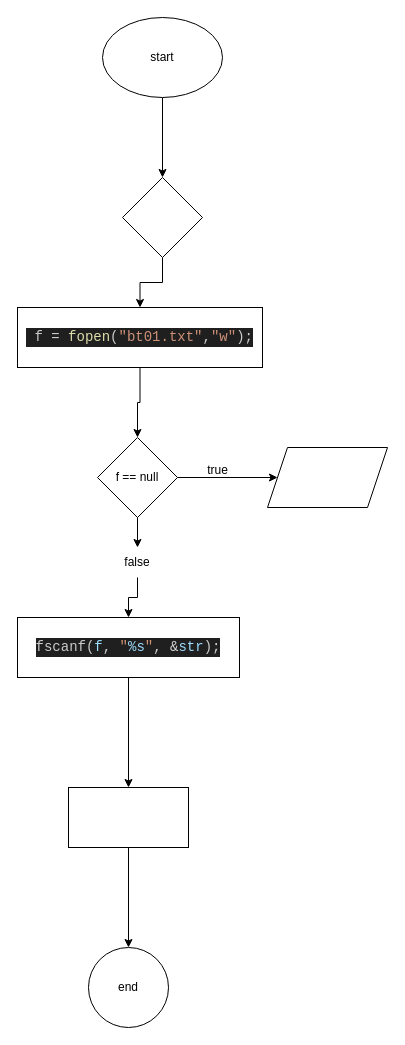
This 405x1045 diagram has some shape labels left out. The shapes that lost their labels are listed below. From the top down, each one's centre as x and y in pixels, then its label:
At point (162, 217): "input str".
At point (327, 477): "return 0".
At point (128, 817): "fclose(f)".
